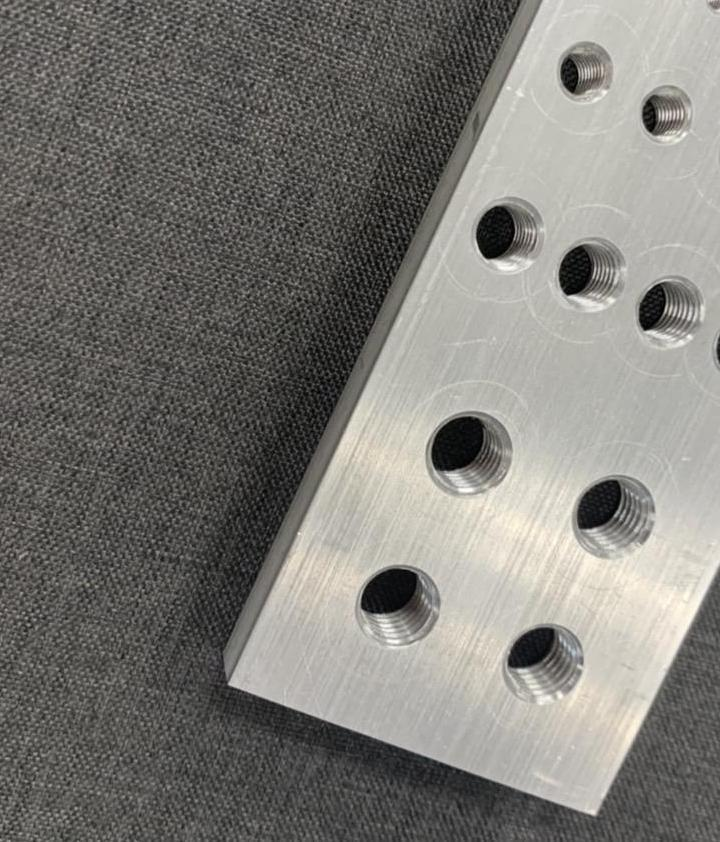hole: (495, 609, 593, 720), (420, 397, 522, 503), (354, 556, 446, 662), (566, 464, 658, 568), (554, 227, 634, 322), (468, 186, 546, 281), (634, 270, 706, 352), (555, 38, 617, 109), (638, 81, 696, 144)
